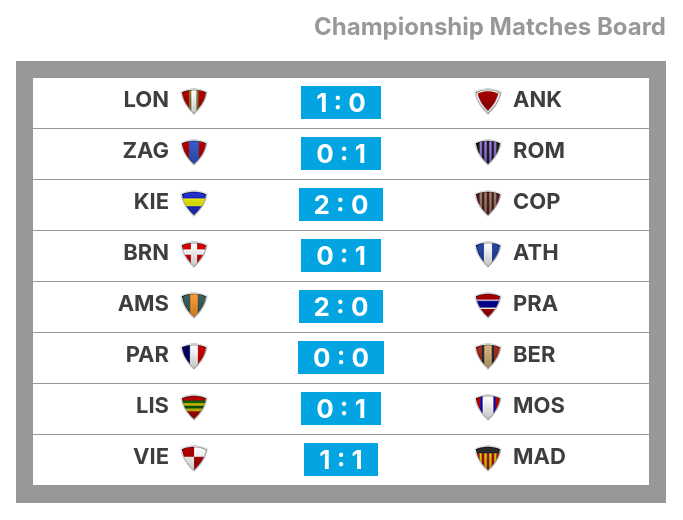
MatchEvents › Should display full teams names on the Match Board
The image size is (683, 520).
Click the text "KIE": (151, 204) [134,188,169,222]
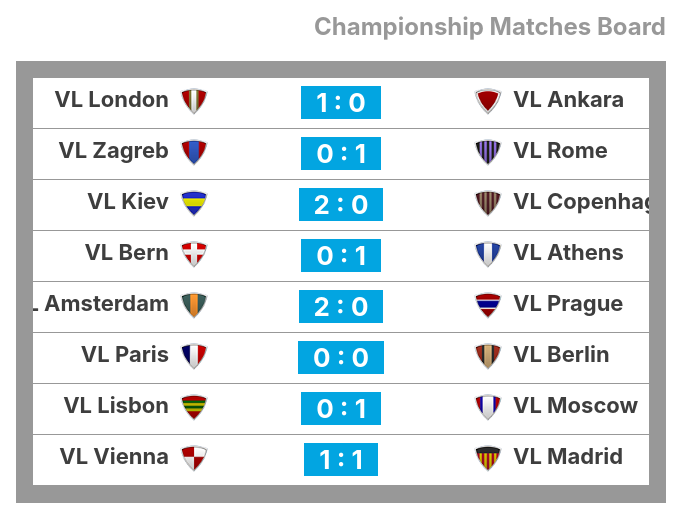
Result: the text "VL Kiev" is shown at [87,188,169,222]
Result: the text "VL Copenhagen" is shown at [513,188,666,222]
